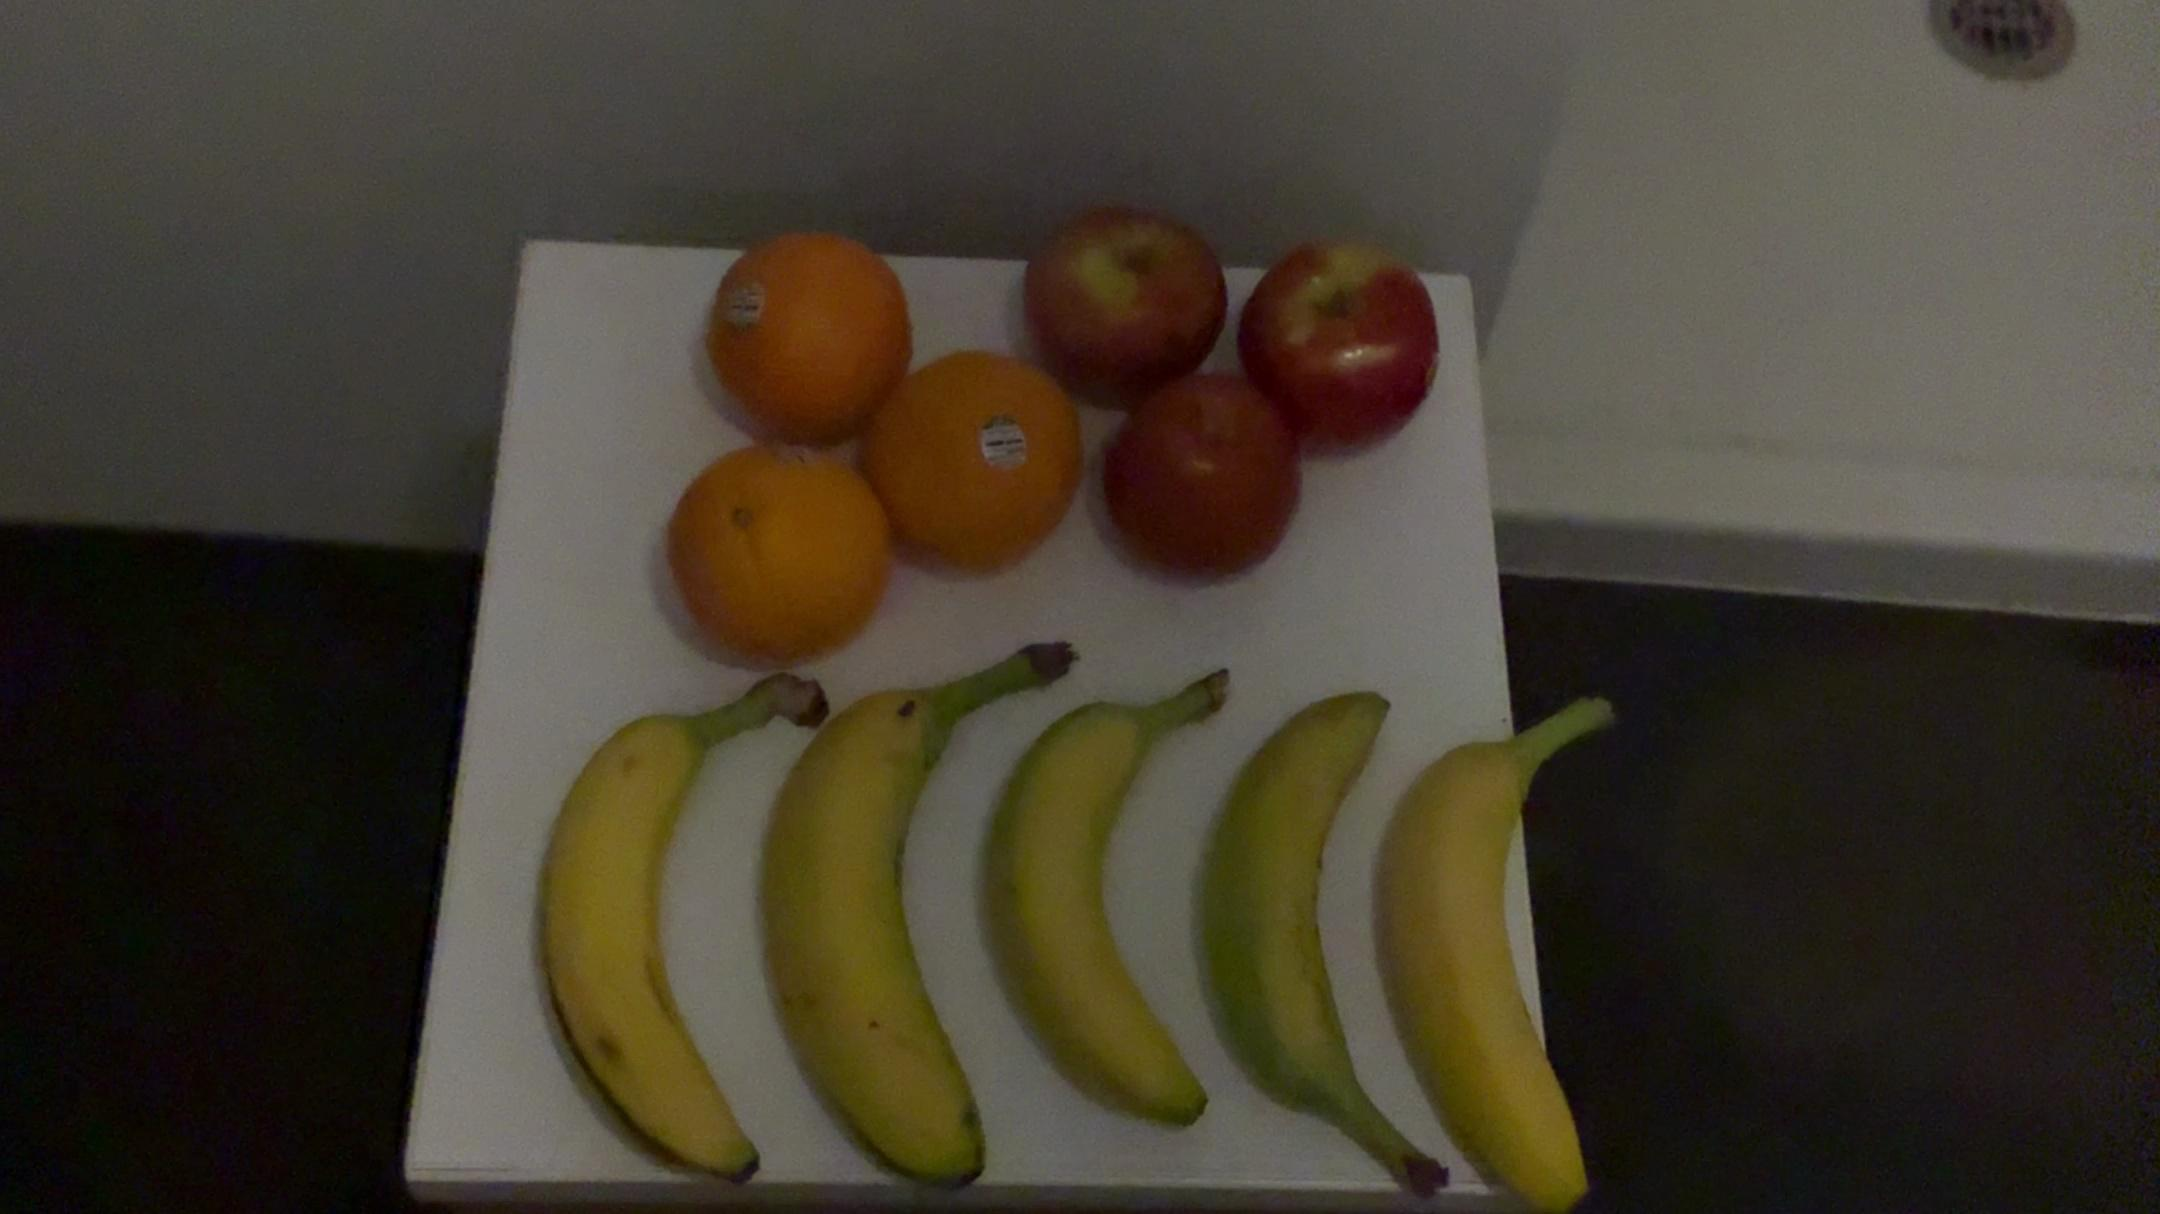apple: (1242, 229, 1449, 472), (1019, 181, 1227, 404), (1101, 389, 1308, 598)
banana: (530, 657, 828, 1201), (767, 635, 1046, 1201), (1363, 675, 1638, 1214), (1196, 683, 1458, 1207), (984, 663, 1245, 1149)
orange: (668, 435, 881, 683), (869, 352, 1087, 583), (702, 220, 914, 448)
